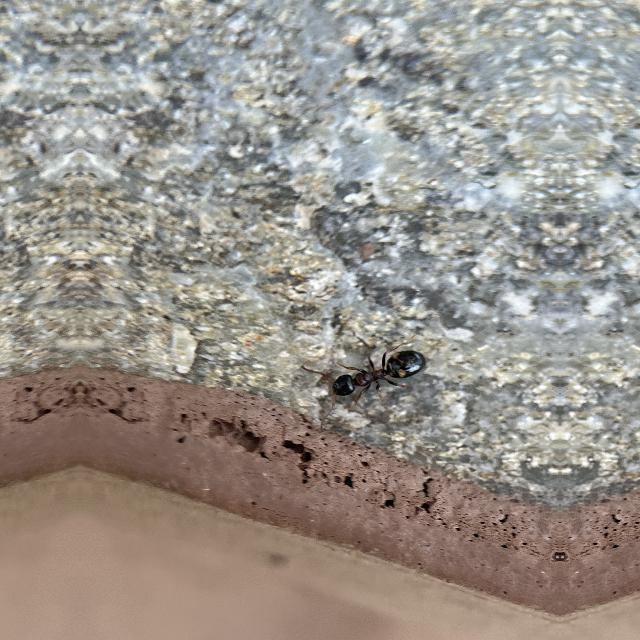Dolichoderus: (314, 325, 440, 425)
